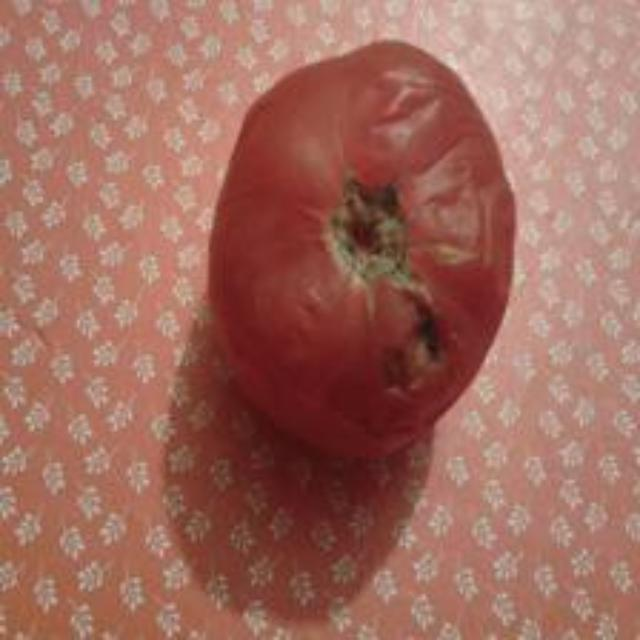defect: (198, 38, 529, 468)
